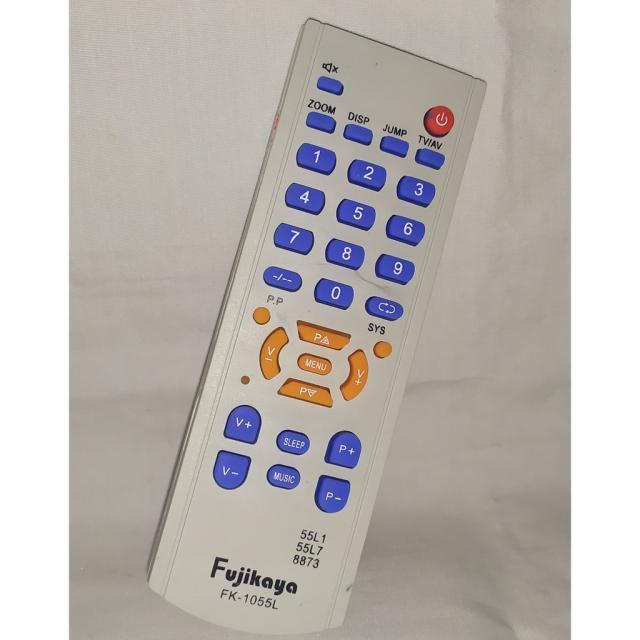remote: (144, 21, 485, 640)
